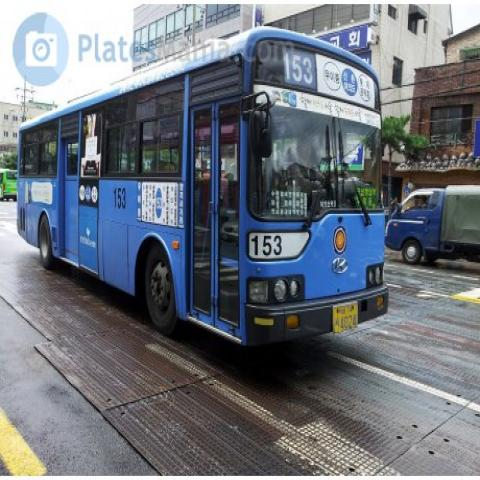LP: (326, 289, 360, 338)
